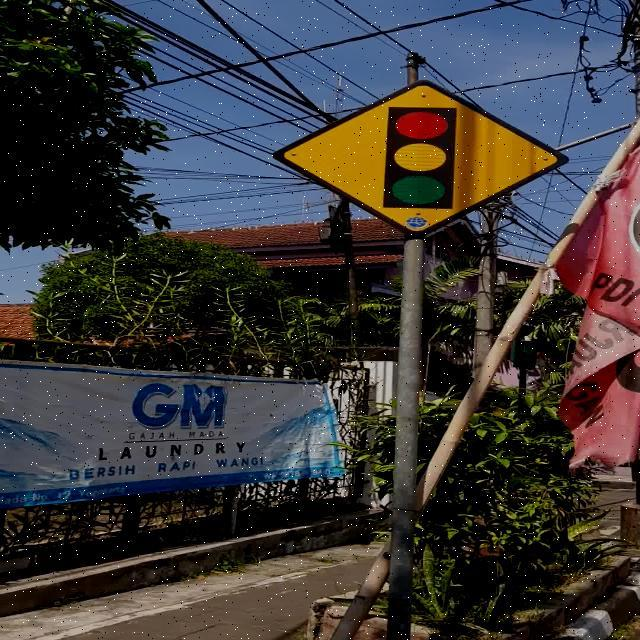Lampu Lalu Lintas: (272, 80, 570, 238)
